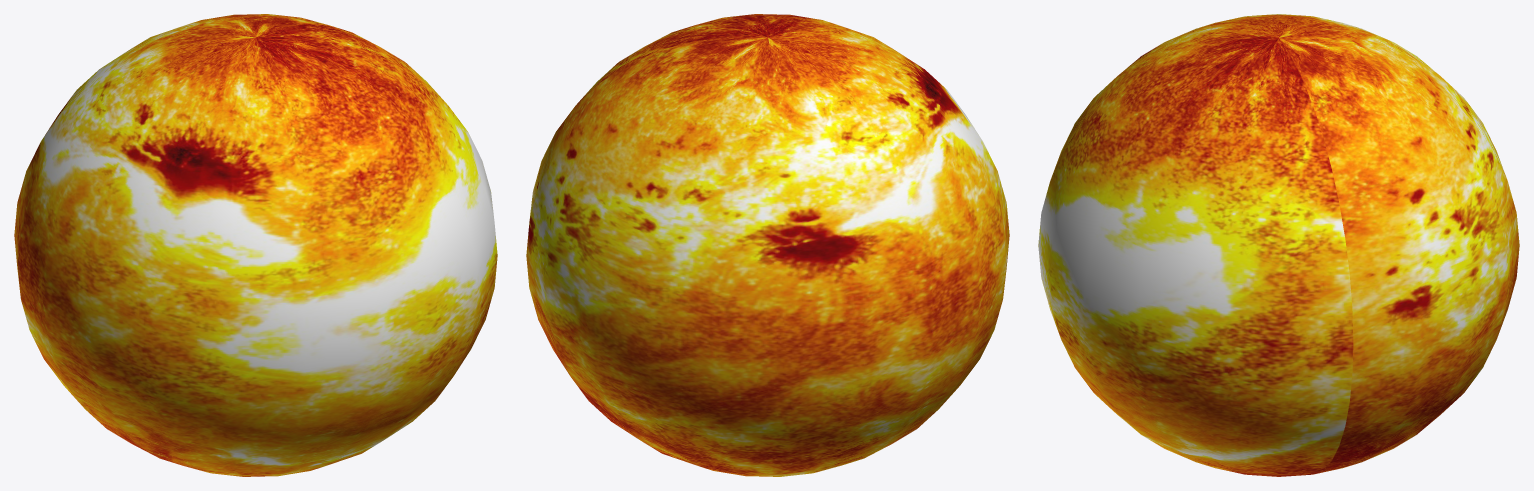
File: FBX sun.fbx
The picture shows the model from 3 angles, left to right: view 1: azimuth 30°, elevation 25°; view 2: azimuth 150°, elevation 25°; view 3: azimuth 270°, elevation 25°; orthographic projection.
Parts seen in each view (by area): view 1: sun; view 2: sun; view 3: sun.
Part boxes in pixels (box(x1,y1,x2,y2)): sun: box(14, 14, 497, 476); sun: box(526, 14, 1009, 476); sun: box(1038, 14, 1519, 476).
Bounding box in the file's own units: 123 × 115 × 121.
1 material, 1 textured.
